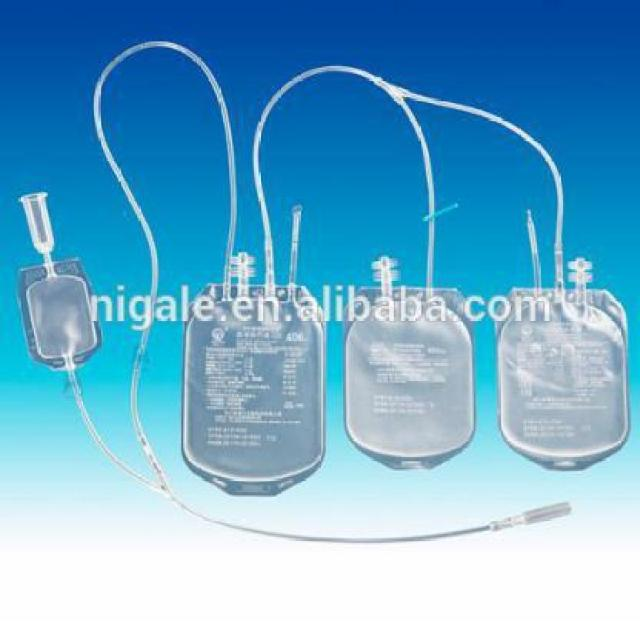B3: (172, 270, 330, 513), (332, 275, 486, 479), (489, 278, 638, 482)
